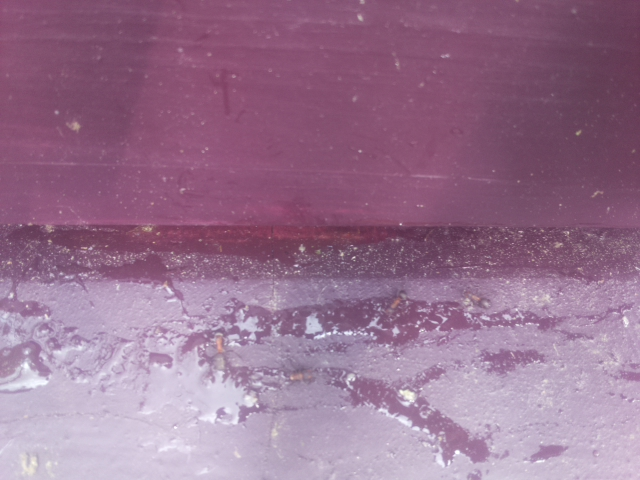ant: (281, 355, 325, 399), (376, 283, 416, 324), (207, 330, 233, 376), (460, 289, 493, 308)
